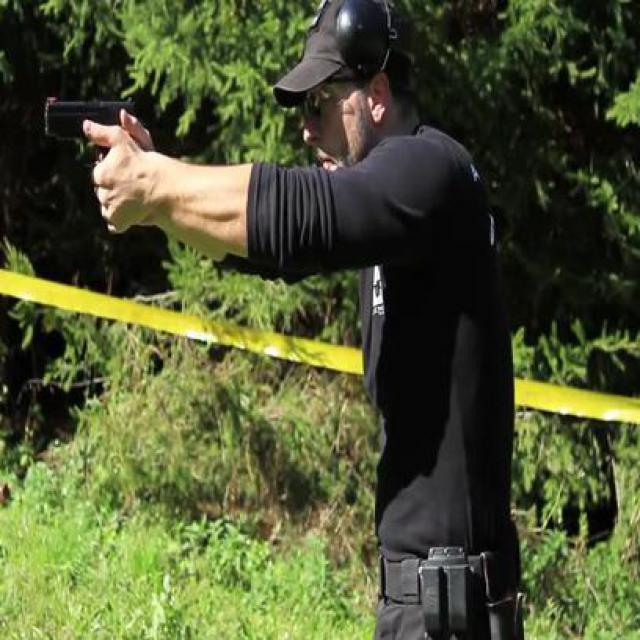gun: (40, 94, 156, 224)
